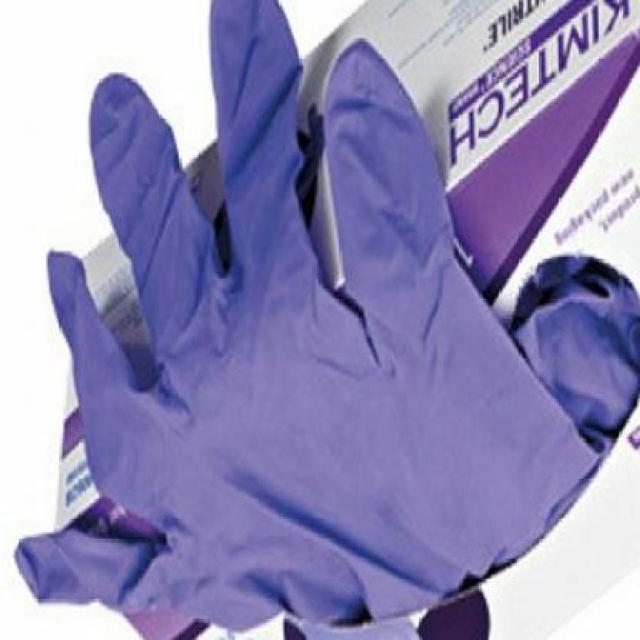gloved_hand: (11, 2, 592, 635)
